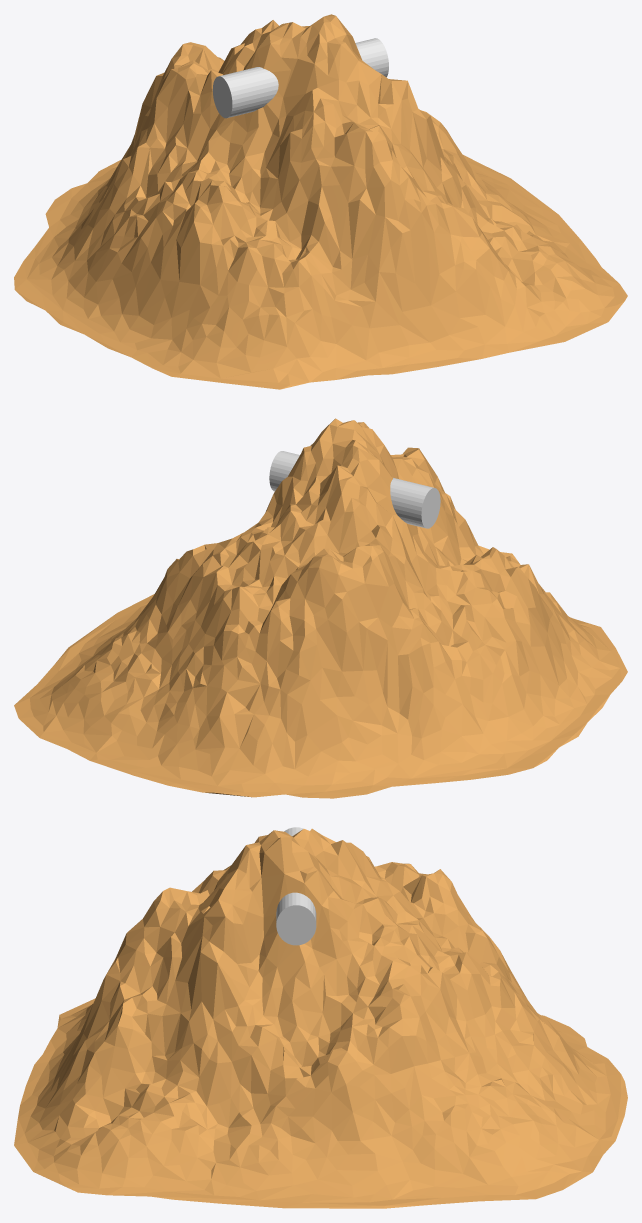
The model's file is Mounting1_Hole.fbx.
The picture shows the model from 3 angles, top to bottom: view 1: azimuth 30°, elevation 25°; view 2: azimuth 150°, elevation 25°; view 3: azimuth 270°, elevation 25°; orthographic projection. The views are drawn at different scales.
Parts seen in each view (by area): view 1: Mounting_1, Cylinder; view 2: Mounting_1, Cylinder; view 3: Mounting_1, Cylinder.
Part boxes in pixels (x1=…): Mounting_1: x1=14, y1=14, x2=627, y2=389; Cylinder: x1=212, y1=38, x2=388, y2=118; Mounting_1: x1=14, y1=418, x2=627, y2=798; Cylinder: x1=269, y1=451, x2=440, y2=528; Mounting_1: x1=14, y1=828, x2=627, y2=1208; Cylinder: x1=276, y1=827, x2=316, y2=945.
Bounding box in the file's own units: 1572 × 865 × 1675.
